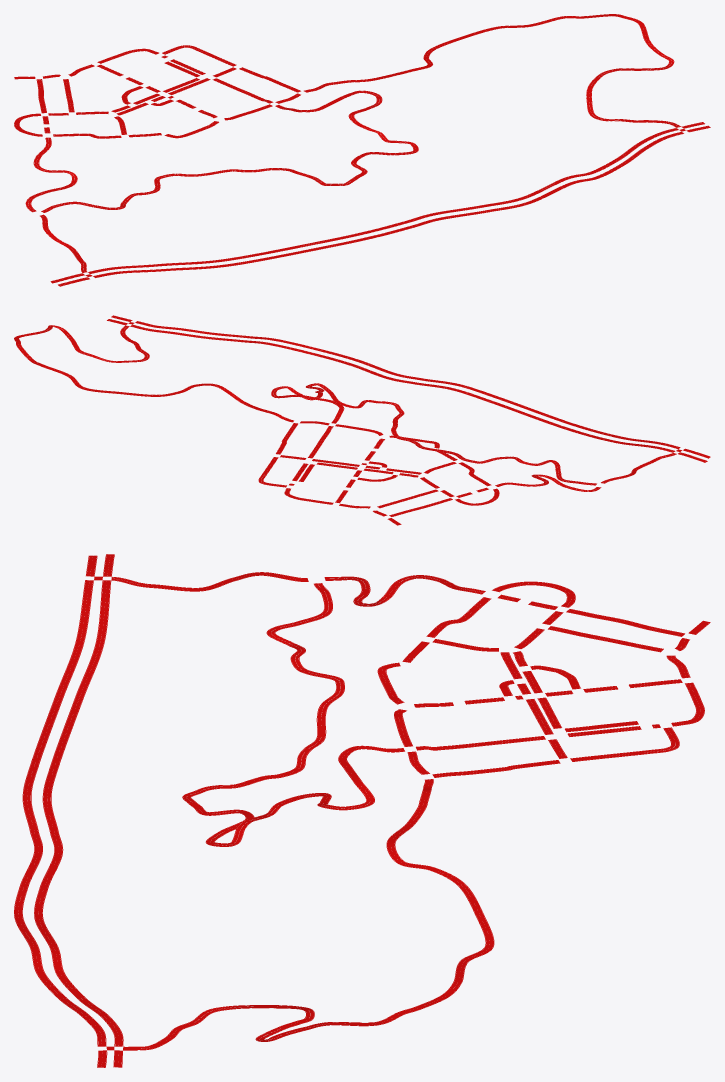
File: AsphaltRoads.fbx
3 renders of one model, top to bottom at view 1: azimuth 30°, elevation 25°; view 2: azimuth 150°, elevation 25°; view 3: azimuth 270°, elevation 25°, orthographic. The views are drawn at different scales.
Parts seen in each view (by area): view 1: AsphaltRoad022, AsphaltRoad013, AsphaltRoad020, AsphaltRoad018, AsphaltRoad044; view 2: AsphaltRoad013, AsphaltRoad022, AsphaltRoad018, AsphaltRoad020, AsphaltRoad044; view 3: AsphaltRoad022, AsphaltRoad013, AsphaltRoad020, AsphaltRoad018, AsphaltRoad044, AsphaltRoad021.
Part boxes in pixels (box(x1,y1,x2,y2)): AsphaltRoad022: box(41, 90, 418, 212); AsphaltRoad013: box(303, 14, 680, 127); AsphaltRoad020: box(93, 132, 683, 277); AsphaltRoad018: box(88, 128, 678, 273); AsphaltRoad044: box(25, 137, 77, 212); AsphaltRoad013: box(14, 325, 293, 422); AsphaltRoad022: box(271, 383, 596, 485); AsphaltRoad018: box(130, 324, 675, 452); AsphaltRoad020: box(135, 321, 680, 448); AsphaltRoad044: box(495, 474, 601, 491); AsphaltRoad022: box(182, 583, 404, 846); AsphaltRoad013: box(123, 779, 494, 1050); AsphaltRoad020: box(14, 580, 106, 1046); AsphaltRoad018: box(34, 580, 123, 1046); AsphaltRoad044: box(324, 575, 485, 606); AsphaltRoad021: box(111, 572, 308, 591).
Size of the model in its own units: 112148 by 7827 by 62847.
